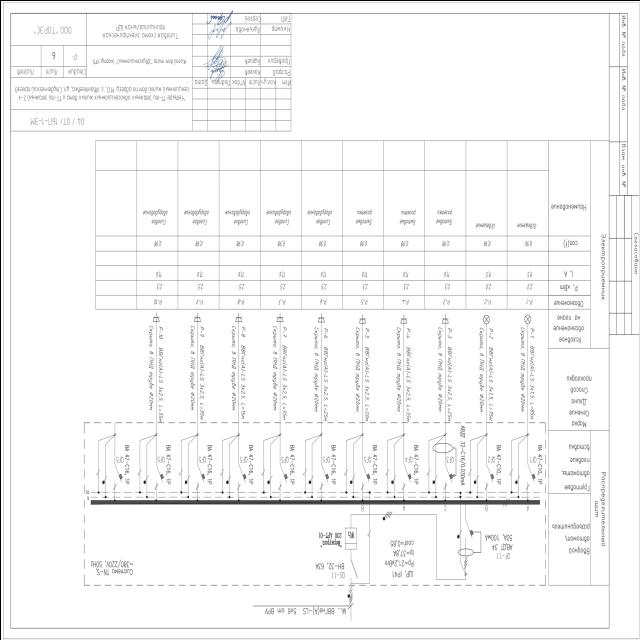-: (482, 530, 514, 550), (458, 424, 466, 486), (316, 530, 342, 548), (314, 559, 346, 570), (329, 441, 337, 484), (246, 442, 254, 485), (536, 442, 544, 485), (288, 442, 296, 485), (122, 442, 130, 485), (164, 441, 172, 484), (412, 442, 420, 484), (494, 442, 502, 484), (388, 567, 414, 579), (371, 442, 378, 485), (205, 442, 212, 485)
QF: (318, 460, 328, 486), (194, 462, 204, 488), (526, 460, 536, 486), (360, 460, 370, 485), (278, 462, 288, 487), (236, 461, 246, 486), (153, 461, 163, 486), (484, 461, 494, 486), (402, 462, 412, 487), (112, 462, 122, 486)
QFD: (430, 440, 456, 490), (457, 527, 481, 569)
QS: (347, 556, 357, 604)
WH: (344, 528, 356, 550)
